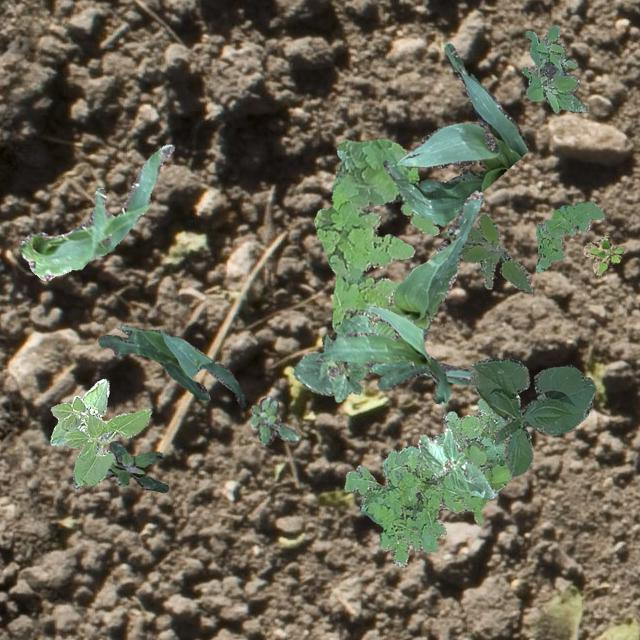crop: (382, 42, 528, 224), (370, 190, 482, 384), (18, 143, 174, 280), (468, 358, 594, 476), (314, 306, 450, 404), (96, 324, 245, 406), (50, 378, 150, 488), (292, 314, 372, 402), (416, 427, 496, 498)
weed: (344, 398, 512, 566), (312, 137, 438, 330), (442, 212, 532, 292), (520, 23, 588, 112), (534, 200, 604, 272), (104, 439, 168, 492), (250, 396, 298, 444), (582, 234, 624, 274)
